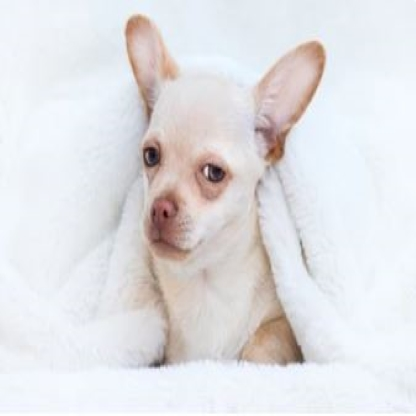chihuahua: (121, 10, 328, 368)
